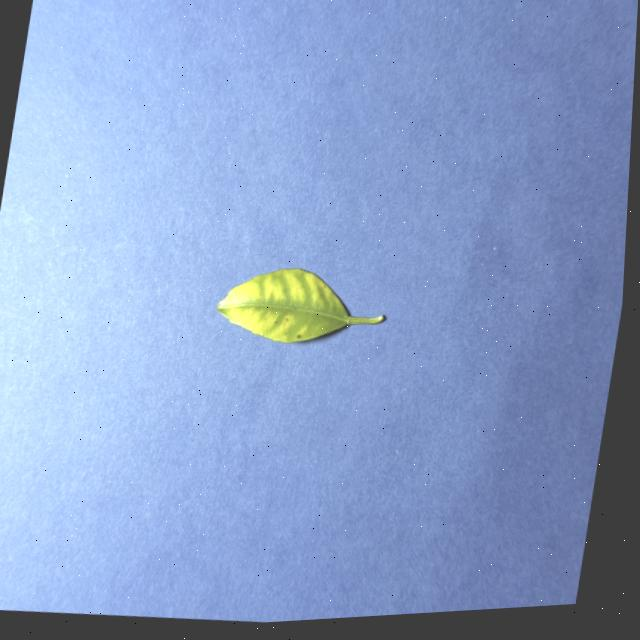greening: (216, 268, 383, 342)
